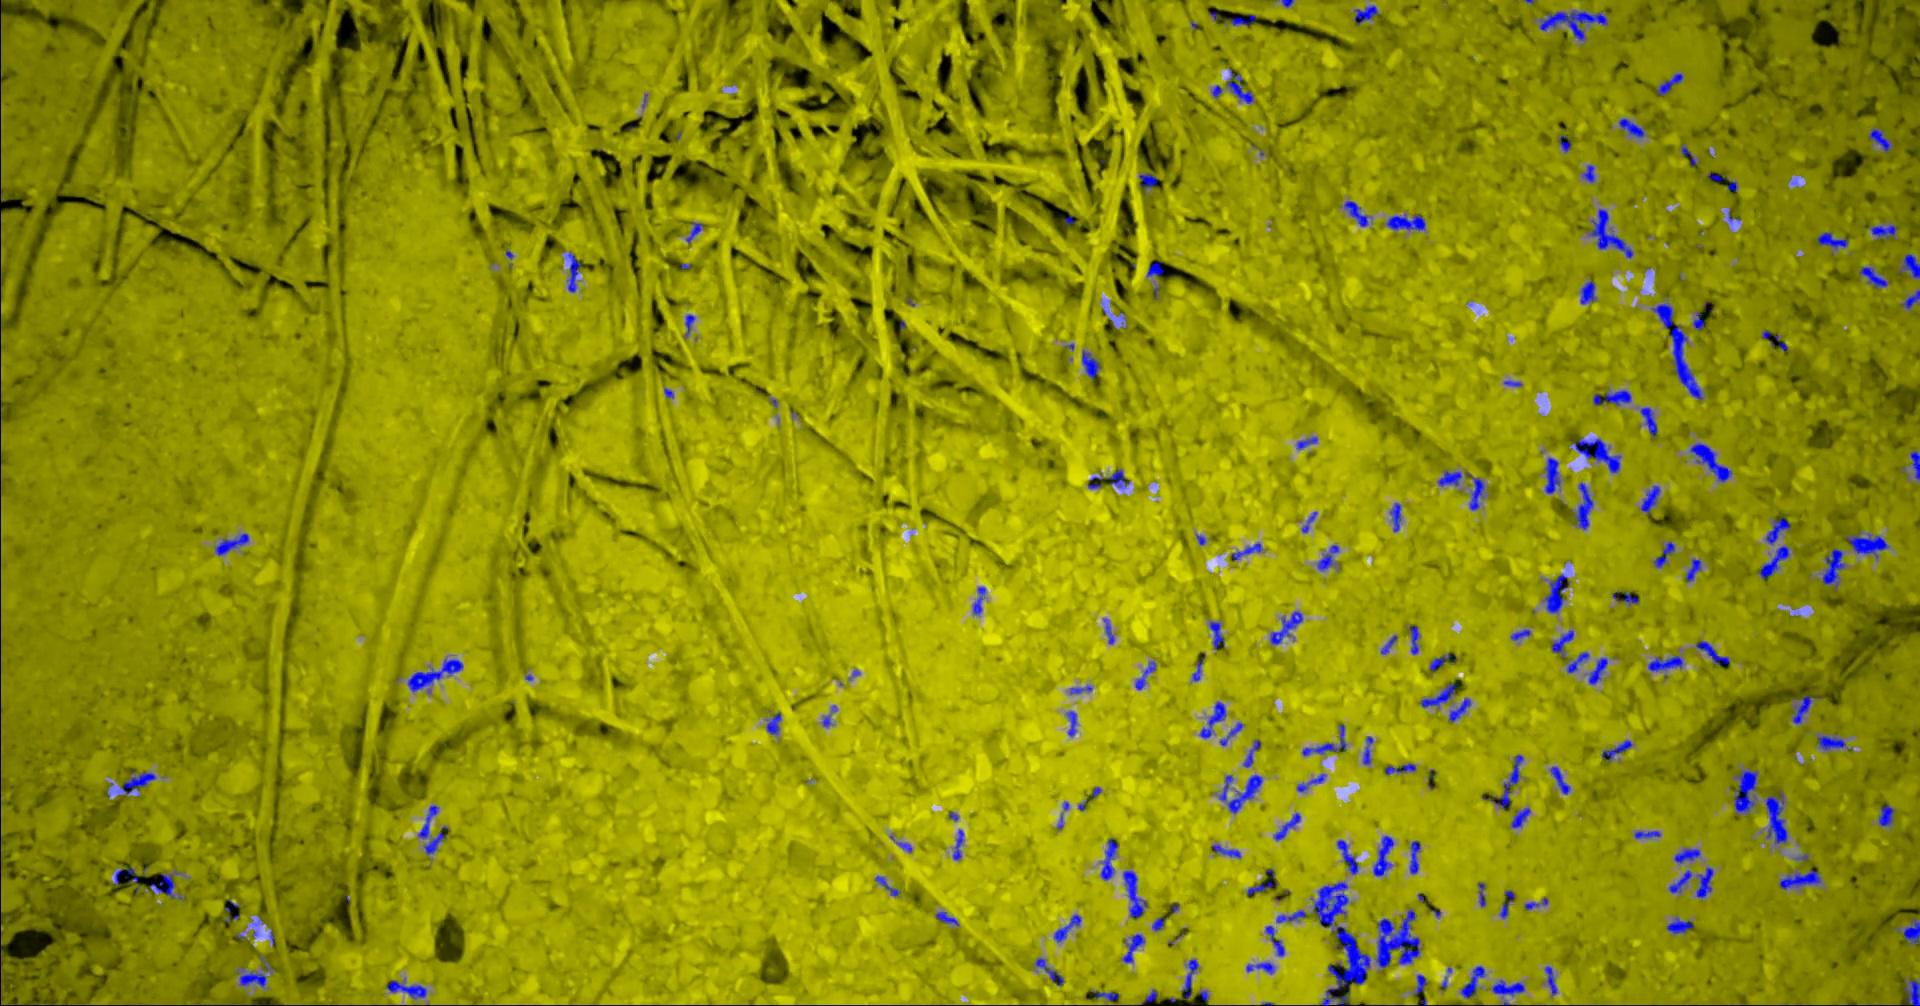ant: (1589, 208, 1632, 258), (1538, 10, 1608, 39), (408, 658, 463, 694), (1490, 754, 1523, 809), (1572, 437, 1620, 473), (1689, 442, 1732, 481), (417, 805, 448, 854), (1302, 723, 1346, 754), (1227, 774, 1262, 813), (1269, 610, 1302, 644), (1844, 533, 1888, 559), (1765, 791, 1787, 843), (1757, 545, 1789, 579), (1123, 870, 1145, 917), (1733, 768, 1757, 813), (117, 770, 155, 795), (1225, 69, 1253, 103), (1199, 701, 1225, 737), (1420, 682, 1457, 708), (1544, 573, 1567, 614), (1822, 547, 1844, 589), (1573, 481, 1592, 528), (1695, 640, 1730, 666), (1373, 835, 1393, 876), (1246, 868, 1276, 895), (149, 873, 182, 898), (1779, 869, 1820, 889), (1792, 695, 1820, 724), (1034, 956, 1063, 984), (1460, 965, 1484, 998), (1272, 812, 1300, 840), (1053, 915, 1081, 942), (1100, 837, 1117, 879), (1336, 840, 1357, 874), (215, 533, 248, 555), (386, 981, 425, 998), (1858, 265, 1887, 288), (1385, 213, 1425, 230), (1181, 959, 1197, 998), (1343, 199, 1368, 226), (1765, 517, 1789, 544), (1550, 629, 1573, 657), (1121, 934, 1144, 962), (1592, 389, 1630, 405), (1656, 72, 1683, 95), (1316, 544, 1338, 570), (1230, 542, 1262, 561), (1265, 925, 1284, 956), (1601, 741, 1630, 761), (1707, 171, 1737, 191), (1618, 117, 1644, 138), (1135, 661, 1156, 688), (1641, 485, 1660, 514), (1868, 127, 1891, 151), (1448, 697, 1470, 721), (1219, 721, 1242, 746), (1761, 329, 1787, 351), (1653, 541, 1675, 567), (1817, 231, 1848, 249), (1544, 457, 1559, 493), (1647, 655, 1683, 671), (1695, 866, 1713, 897), (874, 875, 900, 895), (1081, 351, 1100, 379), (1550, 766, 1570, 794), (1437, 470, 1469, 486), (1469, 476, 1484, 511), (1669, 870, 1691, 893), (1897, 920, 1919, 944), (1639, 406, 1657, 436), (568, 251, 580, 292), (1898, 253, 1919, 278), (1589, 657, 1608, 683), (1491, 979, 1524, 995), (1429, 653, 1457, 671), (1242, 739, 1260, 767), (1297, 774, 1324, 791), (1352, 5, 1378, 24), (1566, 652, 1589, 672), (237, 970, 265, 987), (1868, 224, 1897, 239), (1498, 889, 1514, 918), (1666, 917, 1693, 934), (1510, 807, 1530, 828), (114, 866, 138, 884), (684, 221, 703, 243), (1209, 621, 1224, 648), (1877, 803, 1895, 826), (1580, 279, 1596, 304), (971, 586, 985, 614), (1817, 735, 1845, 749), (1211, 843, 1239, 857), (1275, 909, 1305, 922), (1903, 979, 1919, 1005), (1107, 469, 1129, 486), (1684, 558, 1700, 580), (1218, 774, 1232, 800), (1674, 848, 1700, 862), (1544, 965, 1557, 995), (1680, 144, 1697, 165), (764, 711, 780, 734), (1900, 290, 1919, 307), (1410, 840, 1420, 873), (1244, 962, 1274, 973), (935, 911, 957, 925), (1138, 173, 1157, 189), (1380, 634, 1397, 653), (1909, 450, 1919, 480), (1384, 763, 1415, 774), (1523, 897, 1547, 909), (1229, 14, 1256, 25), (1302, 511, 1316, 532), (1389, 502, 1399, 531), (952, 829, 963, 859), (1145, 260, 1164, 276), (1092, 989, 1117, 1001), (1410, 624, 1418, 654), (1297, 436, 1317, 448), (1065, 710, 1076, 735), (1413, 974, 1426, 995), (1150, 915, 1167, 930), (1363, 735, 1371, 763), (1103, 619, 1114, 643), (1633, 829, 1660, 838), (1510, 629, 1530, 640), (1140, 989, 1156, 1005), (1622, 591, 1638, 605), (1691, 311, 1704, 329), (684, 314, 695, 335), (1192, 658, 1203, 680), (1582, 164, 1594, 182), (1087, 475, 1102, 488), (1069, 685, 1091, 694), (1558, 135, 1570, 151), (1477, 882, 1484, 906)
